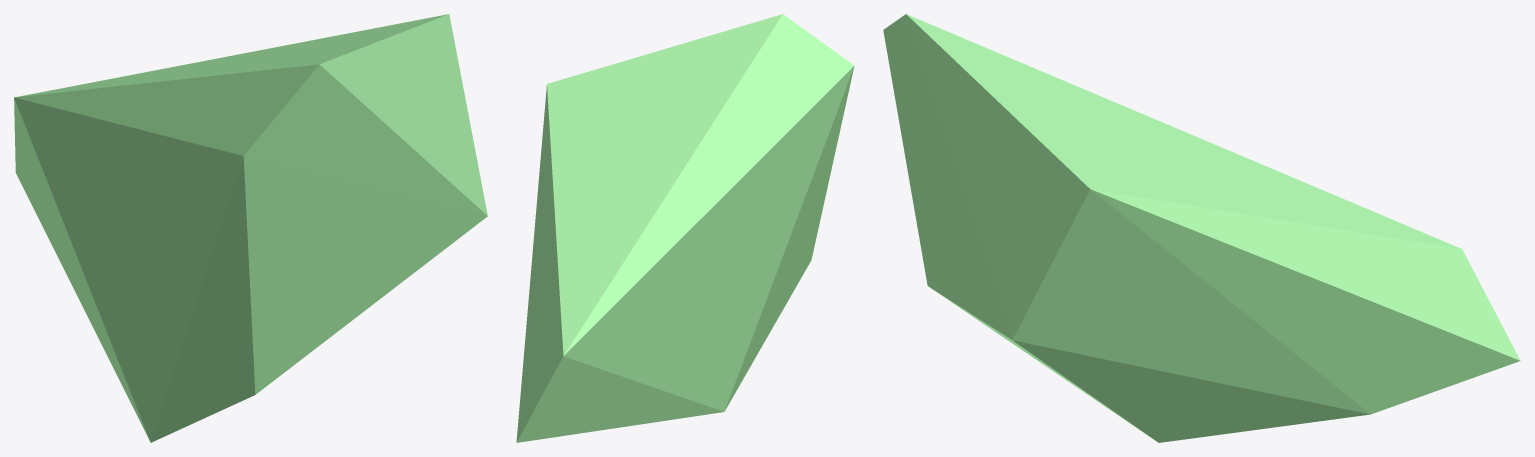
File: dvkr_robot_L3_sx_respondable_TOOL1_coll_9.dae
3 renders of one model, left to right at view 1: azimuth 30°, elevation 25°; view 2: azimuth 150°, elevation 25°; view 3: azimuth 270°, elevation 25°, orthographic. The views are drawn at different scales.
Visible parts, largest first — view 1: Node_0000023514CD9290; view 2: Node_0000023514CD9290; view 3: Node_0000023514CD9290.
Part boxes in pixels (bbox=[...]): Node_0000023514CD9290: bbox=[14, 14, 487, 442]; Node_0000023514CD9290: bbox=[516, 14, 854, 442]; Node_0000023514CD9290: bbox=[883, 14, 1520, 442].
Bounding box in the file's own units: 0.00216 × 0.00296 × 0.00412.
